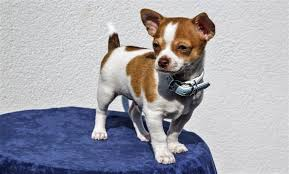chihuahua: (74, 4, 235, 166)
